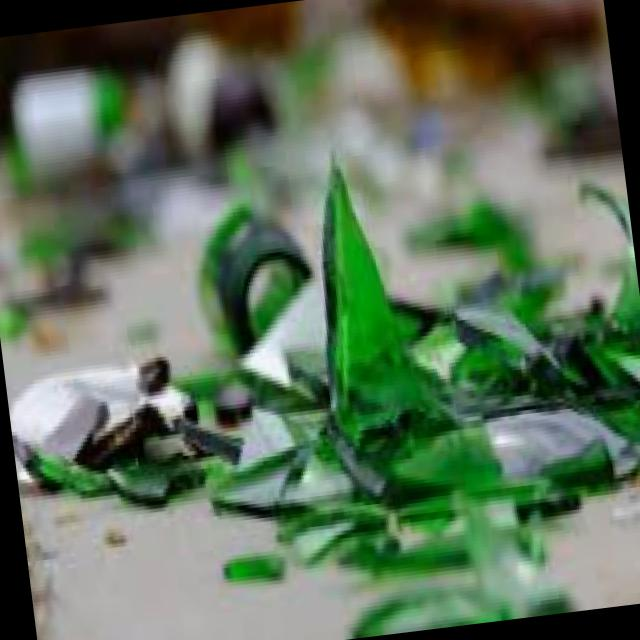PecahanKaca: (166, 113, 640, 640), (3, 340, 250, 520), (186, 192, 321, 362)
